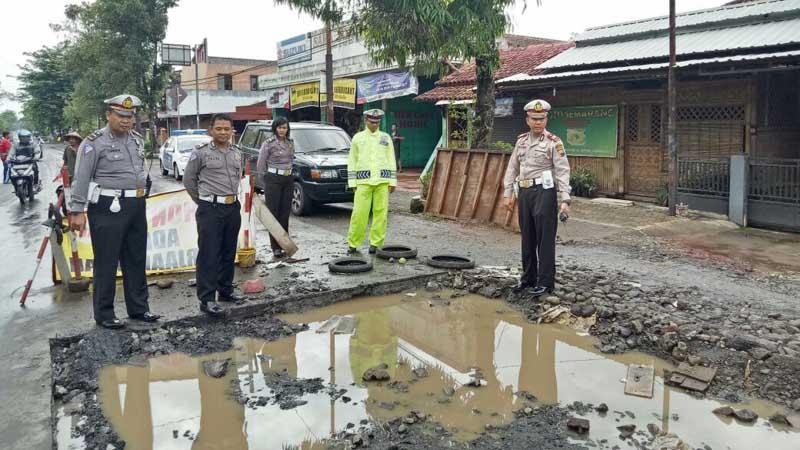Pothole: (0, 263, 800, 450)
